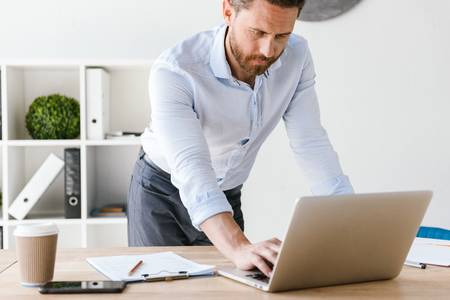F_shirt: (139, 24, 352, 194)
